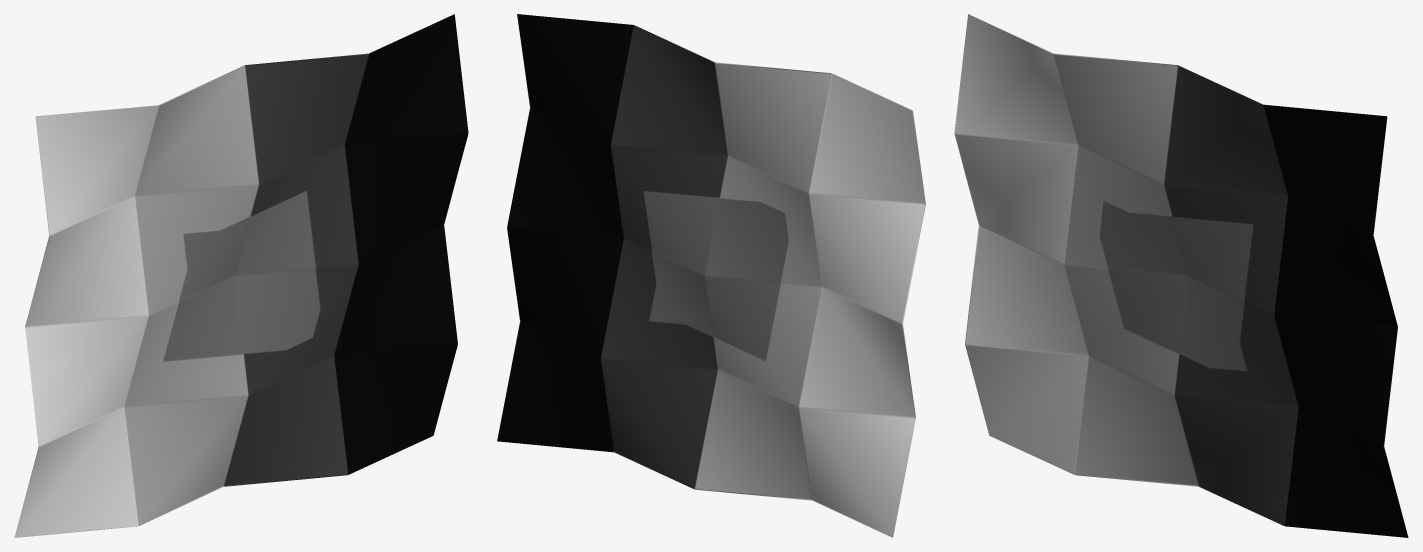
Rendered from rhombus-glass.glb.
3 views of the same model, side by side, from view 1: azimuth 30°, elevation 25°; view 2: azimuth 150°, elevation 25°; view 3: azimuth 330°, elevation 25° (orthographic). The views are drawn at different scales.
Visible parts, largest first — view 1: plane; view 2: plane; view 3: plane.
Part boxes in pixels (x1,y1,x2,y2): plane: (14,14,468,537); plane: (497,14,925,537); plane: (954,14,1408,537).
Bounding box in the file's own units: 10 × 9.96 × 1.67.
1 material, 1 textured.
